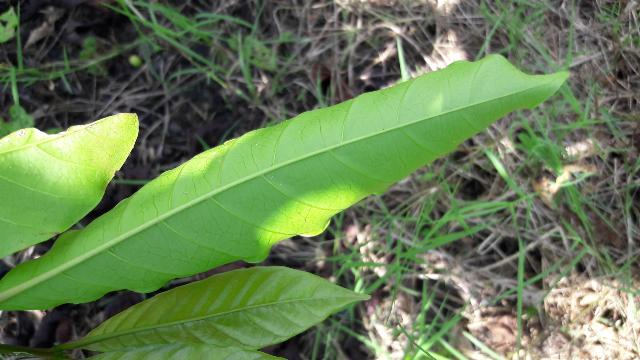healthy: (0, 53, 574, 307)
